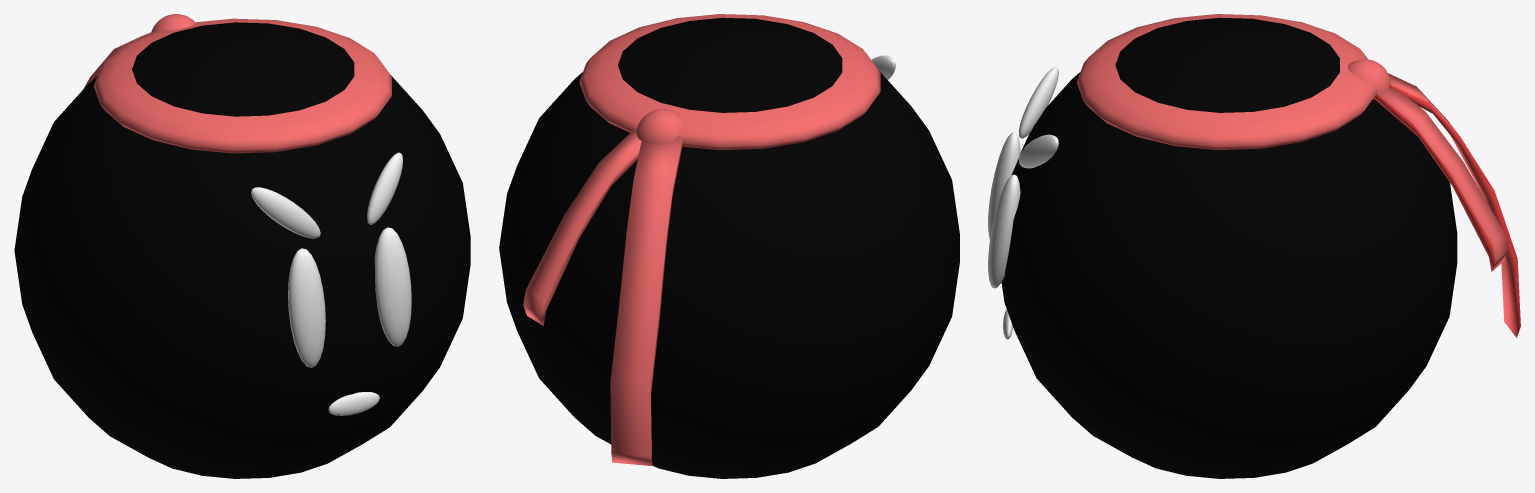
The model's file is enemy.obj.
3 views of the same model, side by side, from view 1: azimuth 30°, elevation 25°; view 2: azimuth 150°, elevation 25°; view 3: azimuth 270°, elevation 25° (orthographic).
Parts seen in each view (by area): view 1: 球, 球.007, 球.001, 球.003; view 2: 球, 球.007; view 3: 球, 球.007, 球.001, 球.003.
Part boxes in pixels (<box>): 球: <box>14,22,470,478</box>; 球.007: <box>83,14,391,153</box>; 球.001: <box>288,227,411,367</box>; 球.003: <box>251,152,402,415</box>; 球: <box>499,17,959,478</box>; 球.007: <box>523,14,880,465</box>; 球: <box>1001,17,1457,478</box>; 球.007: <box>1076,14,1520,337</box>; 球.001: <box>988,132,1020,288</box>; 球.003: <box>1003,66,1058,339</box>.
Bounding box in the file's own units: 1.99 × 2 × 2.3.
4 materials, 4 textured.
